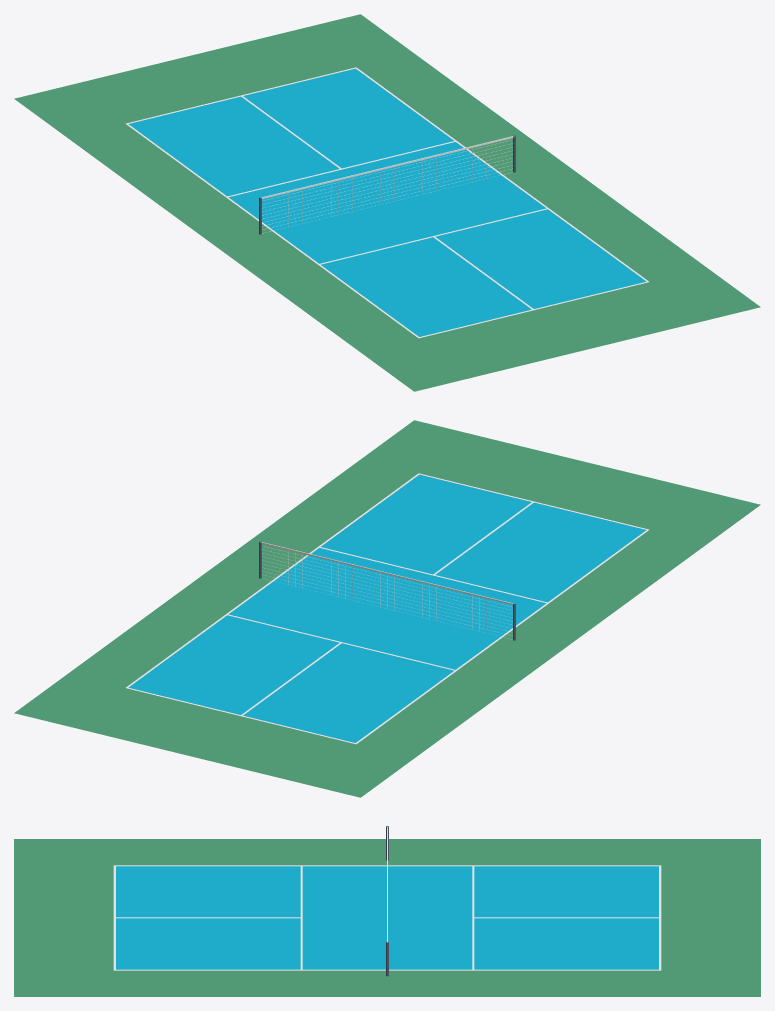
File: Court.glb
3 views of the same model, one above another, from view 1: azimuth 30°, elevation 25°; view 2: azimuth 150°, elevation 25°; view 3: azimuth 270°, elevation 25° (orthographic). The views are drawn at different scales.
Parts seen in each view (by area): view 1: Court_Apron, Court_Surface, Court_Lines, Net_Mesh; view 2: Court_Apron, Court_Surface, Court_Lines, Net_Mesh; view 3: Court_Apron, Court_Surface, Court_Lines.
Part boxes in pixels (<box>): Court_Apron: <box>14,14,760,391</box>; Court_Surface: <box>128,68,645,336</box>; Court_Lines: <box>125,67,648,338</box>; Net_Mesh: <box>261,136,513,233</box>; Court_Apron: <box>14,420,760,797</box>; Court_Surface: <box>129,474,646,742</box>; Court_Lines: <box>126,473,649,744</box>; Net_Mesh: <box>261,542,513,639</box>; Court_Apron: <box>14,839,760,996</box>; Court_Surface: <box>116,866,658,969</box>; Court_Lines: <box>113,865,661,970</box>.
Bounding box in the file's own units: 9.15 × 0.91 × 18.3.
